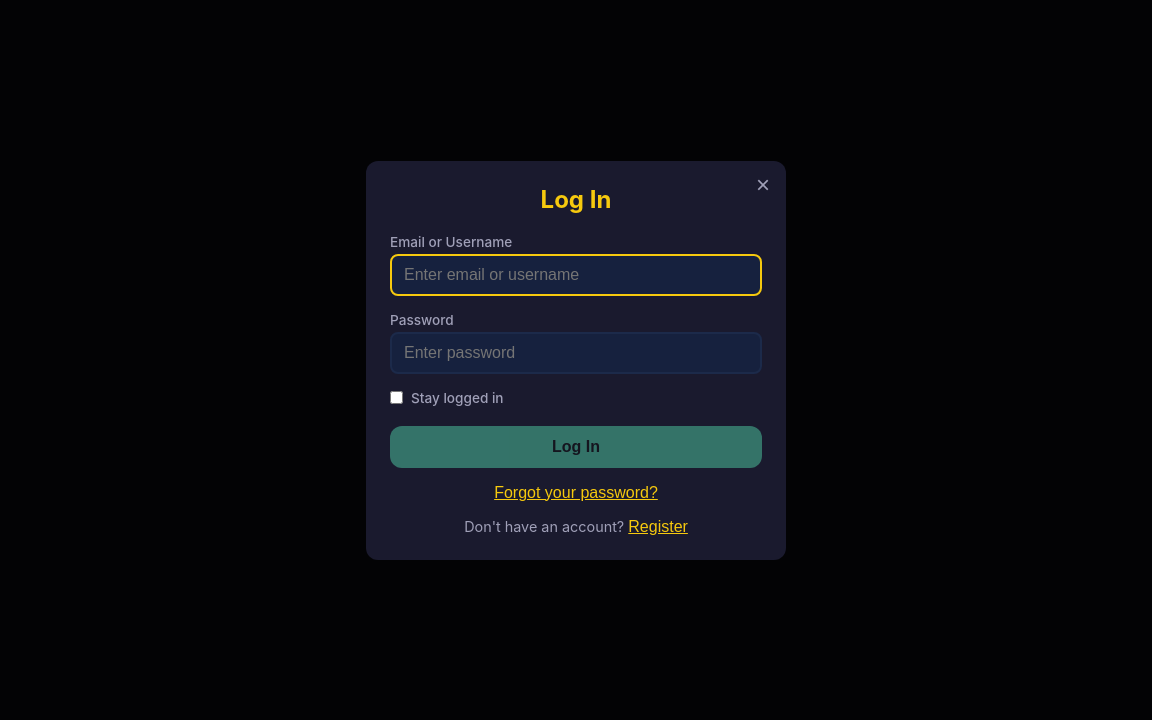
Test: AuthModal › switches from login to register when Register link is clicked
expect the heading "Log In" is shown: met, box [541,184,611,214]
Click the button "Register" at (658, 526), box [628,518,688,536]
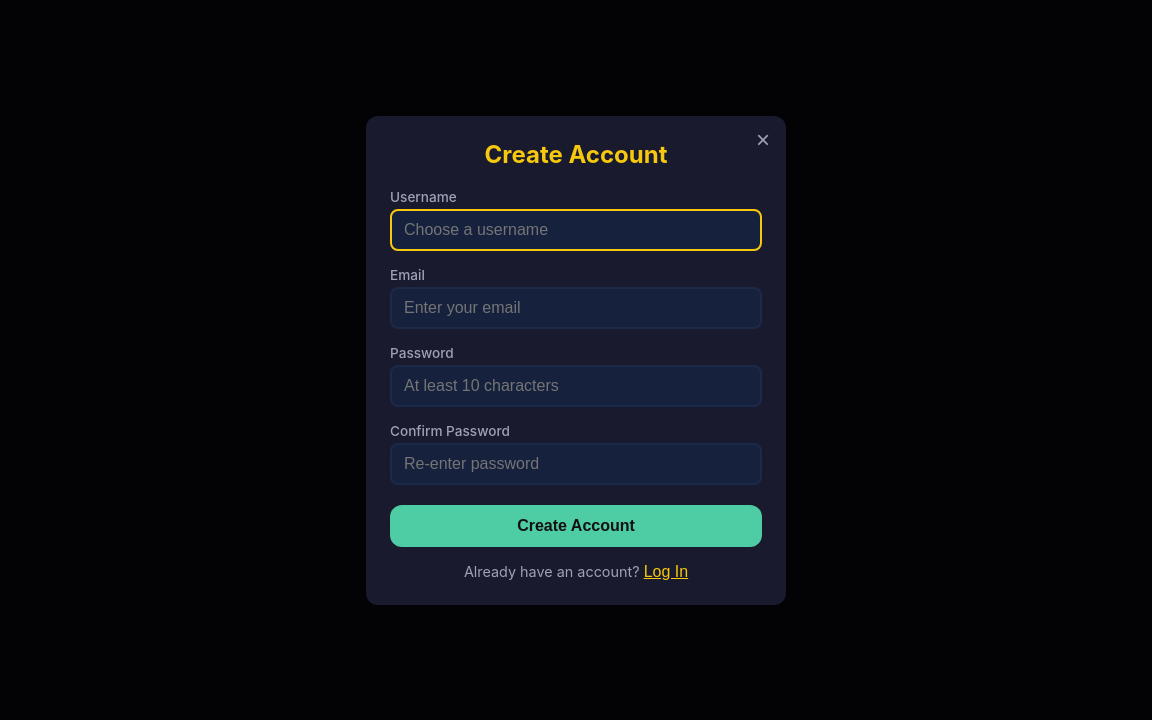
expect the heading "Create Account" is shown: met, box [484,140,668,168]
